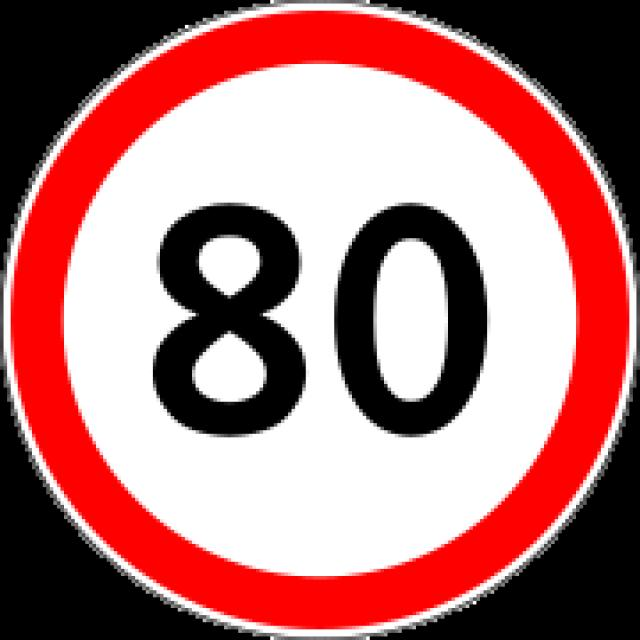Speed Limit -80-: (130, 184, 514, 447)
